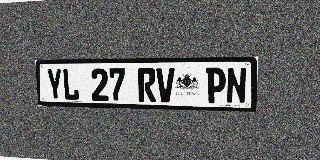2: (91, 68, 109, 101)
7: (108, 68, 126, 101)
L: (62, 68, 79, 101)
N: (226, 67, 247, 104)
P: (206, 67, 226, 103)
R: (138, 68, 156, 102)
V: (156, 68, 175, 102)
Y: (46, 68, 63, 100)
